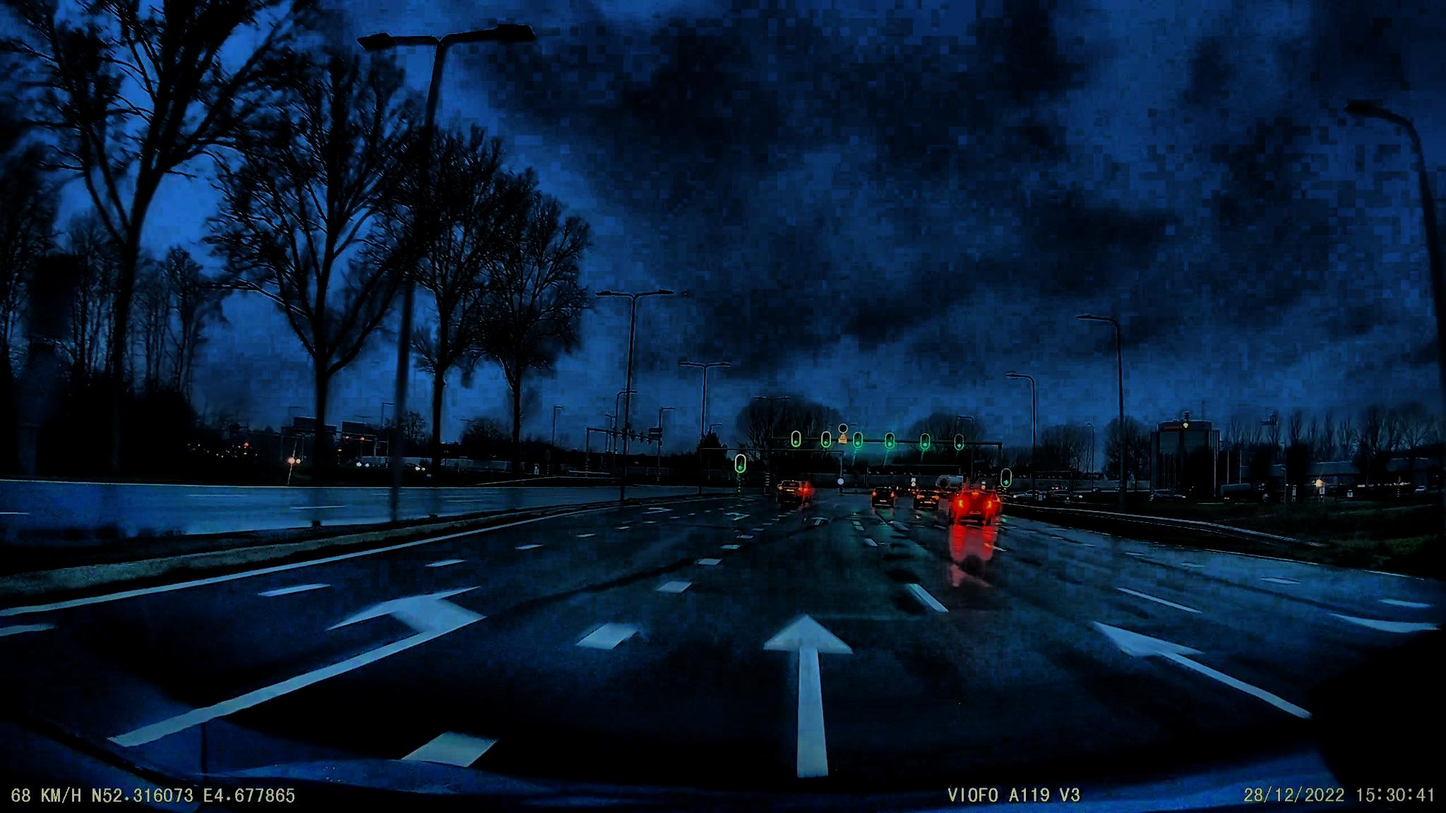Roads: (0, 505, 1446, 813)
